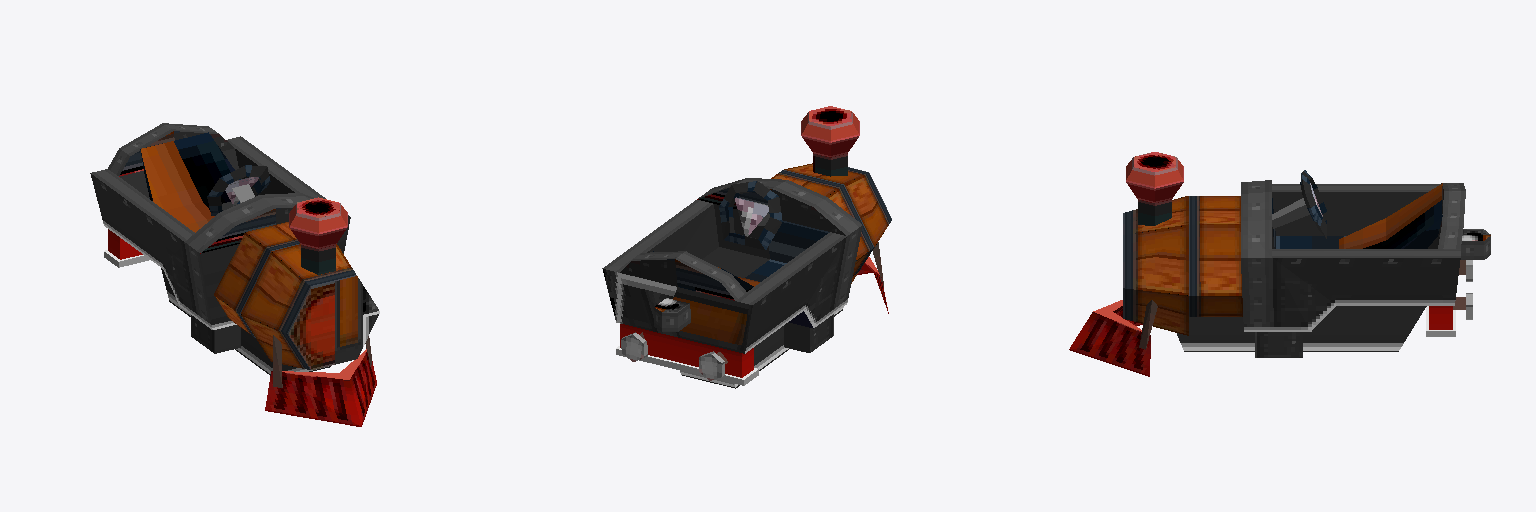
3 views of the same model, side by side, from view 1: azimuth 30°, elevation 25°; view 2: azimuth 150°, elevation 25°; view 3: azimuth 270°, elevation 25° (orthographic).
Visible parts, largest first — view 1: vsn_mesh_0__mesh_0_.001; view 2: vsn_mesh_0__mesh_0_.001; view 3: vsn_mesh_0__mesh_0_.001.
Boxes of the visible parts, box(x1,y1,x2,y2) form: vsn_mesh_0__mesh_0_.001: box(90, 123, 379, 426); vsn_mesh_0__mesh_0_.001: box(602, 106, 891, 388); vsn_mesh_0__mesh_0_.001: box(1069, 152, 1490, 376).
Bounding box in the file's own units: 0.0864 × 0.1031 × 0.2101.
Materials: 1 (1 with a texture image).